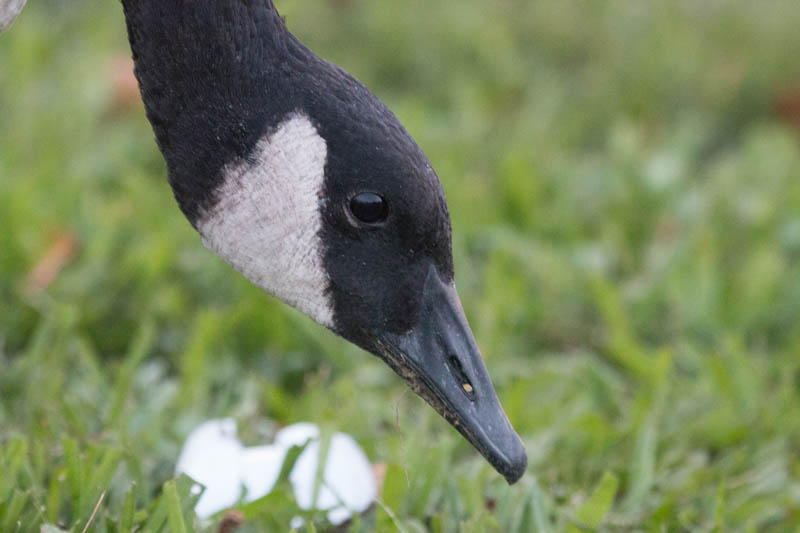goose-head: (143, 55, 528, 488)
